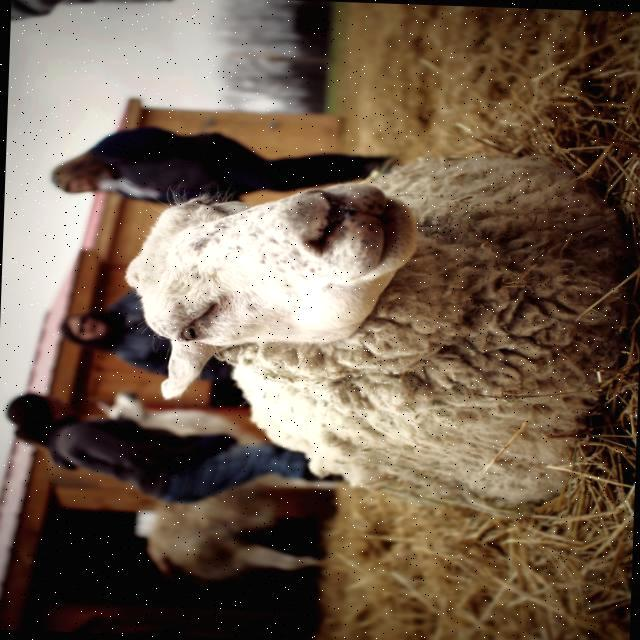sheep: (123, 155, 629, 511), (107, 394, 329, 578)
